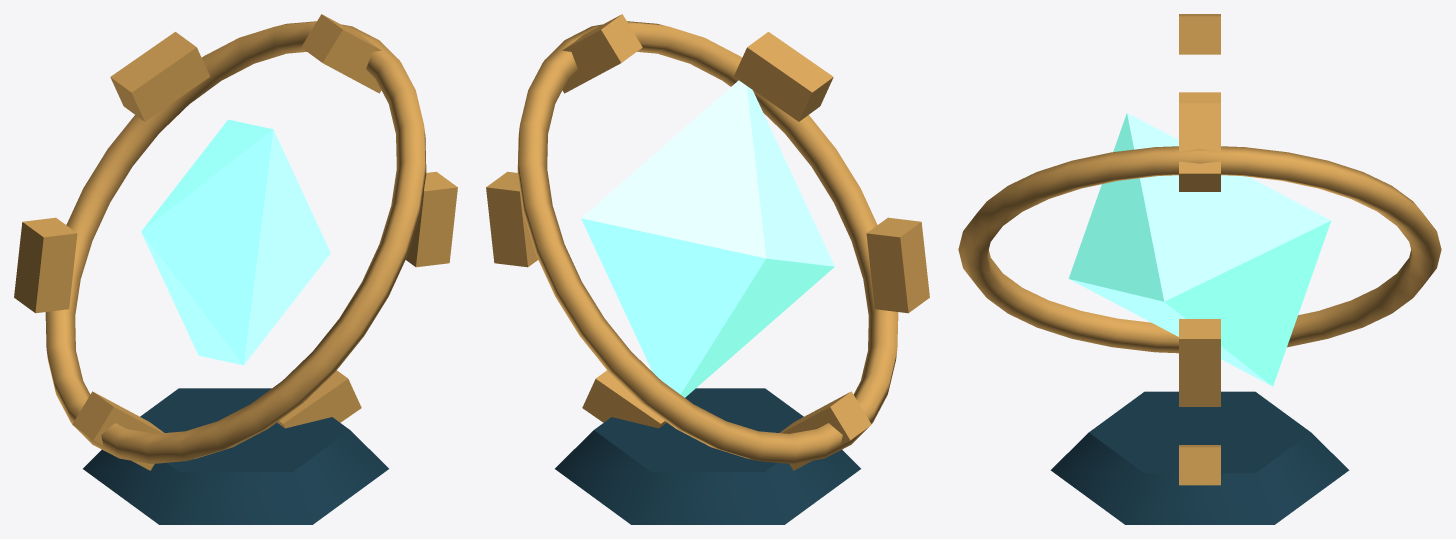
Rendered from relic-04.glb.
The picture shows the model from 3 angles, left to right: view 1: azimuth 30°, elevation 25°; view 2: azimuth 150°, elevation 25°; view 3: azimuth 270°, elevation 25°; orthographic projection. The views are drawn at different scales.
Parts seen in each view (by area): view 1: aged-brass-merged, aether-glass-merged, deep-basalt-merged; view 2: aged-brass-merged, aether-glass-merged, deep-basalt-merged; view 3: aged-brass-merged, aether-glass-merged, deep-basalt-merged.
Part boxes in pixels (x1,y1,x2,y2): aged-brass-merged: (14, 14, 457, 470); aether-glass-merged: (141, 119, 330, 365); deep-basalt-merged: (83, 388, 388, 524); aged-brass-merged: (486, 14, 929, 470); aether-glass-merged: (581, 80, 834, 397); deep-basalt-merged: (555, 388, 860, 524); aged-brass-merged: (958, 14, 1441, 485); aether-glass-merged: (1068, 113, 1331, 386); deep-basalt-merged: (1050, 391, 1349, 524).
Size of the model in its own units: 1.37 by 1.37 by 1.39.
